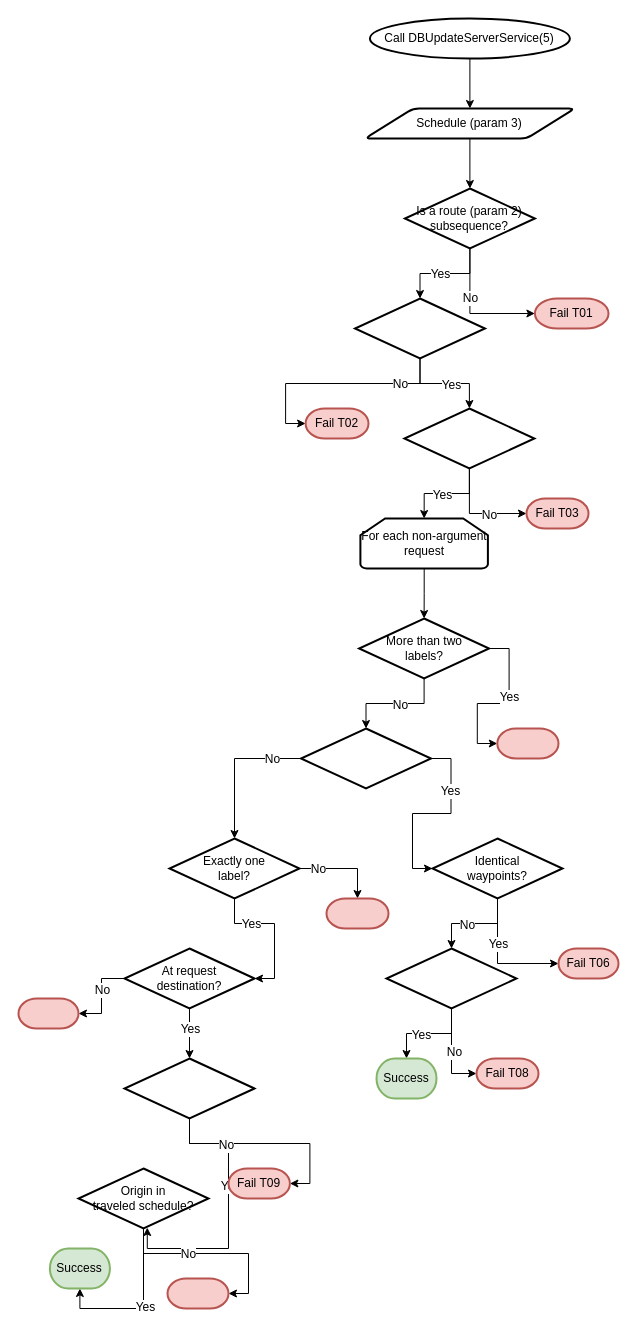
Some shapes in this 636 by 1334 pixel diagram are drawn without their labels. Here are the shapes that lost their labels. From the top down, the centre of each, then its label:
At (x=420, y=328): "Has one server label?".
At (x=469, y=438): "Server label at server dest?".
At (x=366, y=758): "Exactly two labels?".
At (x=527, y=743): "Fail T04".
At (x=357, y=913): "Fail T05".
At (x=451, y=978): "Both in remaining schedule?".
At (x=48, y=1013): "Fail T07".
At (x=189, y=1088): "In remaining schedule?".
At (x=197, y=1293): "Fail T10".
